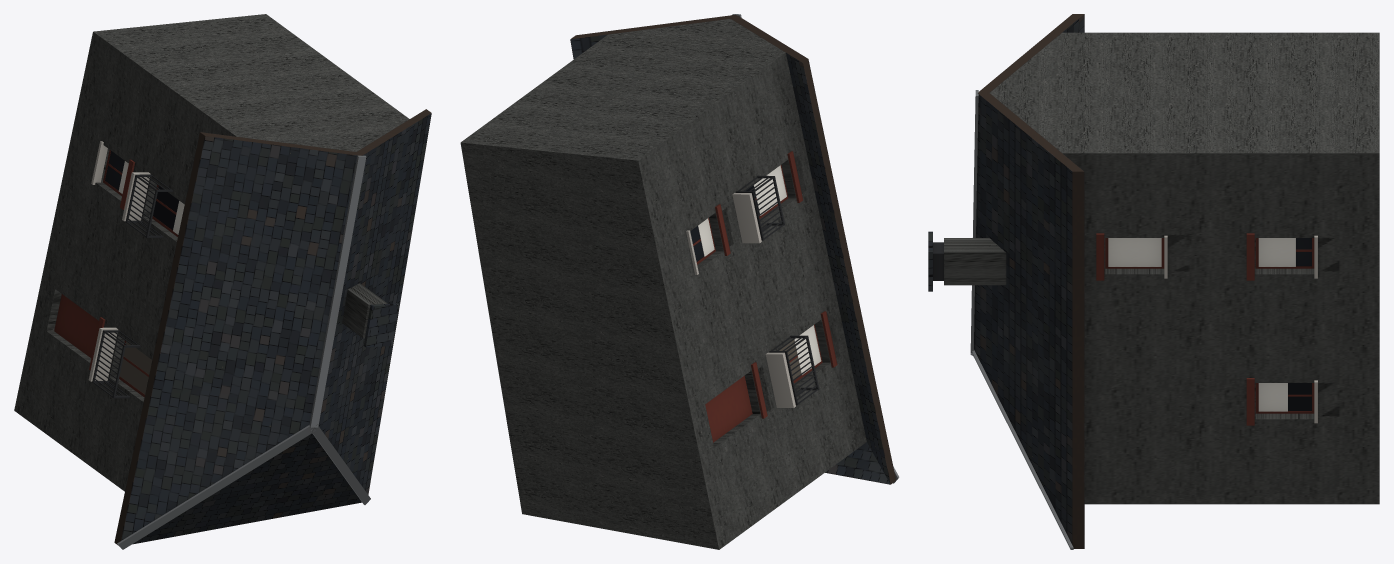
The model's file is house_b0394.obj.
3 renders of one model, left to right at view 1: azimuth 30°, elevation 25°; view 2: azimuth 150°, elevation 25°; view 3: azimuth 270°, elevation 25°, orthographic. The views are drawn at different scales.
Parts seen in each view (by area): view 1: house_b0394; view 2: house_b0394; view 3: house_b0394.
Part boxes in pixels (x1,y1,x2,y2): house_b0394: [14, 14, 431, 549]; house_b0394: [460, 14, 899, 549]; house_b0394: [928, 14, 1379, 549].
Size of the model in its own units: 8.01 by 9.92 by 9.01.
1 material, 1 textured.
